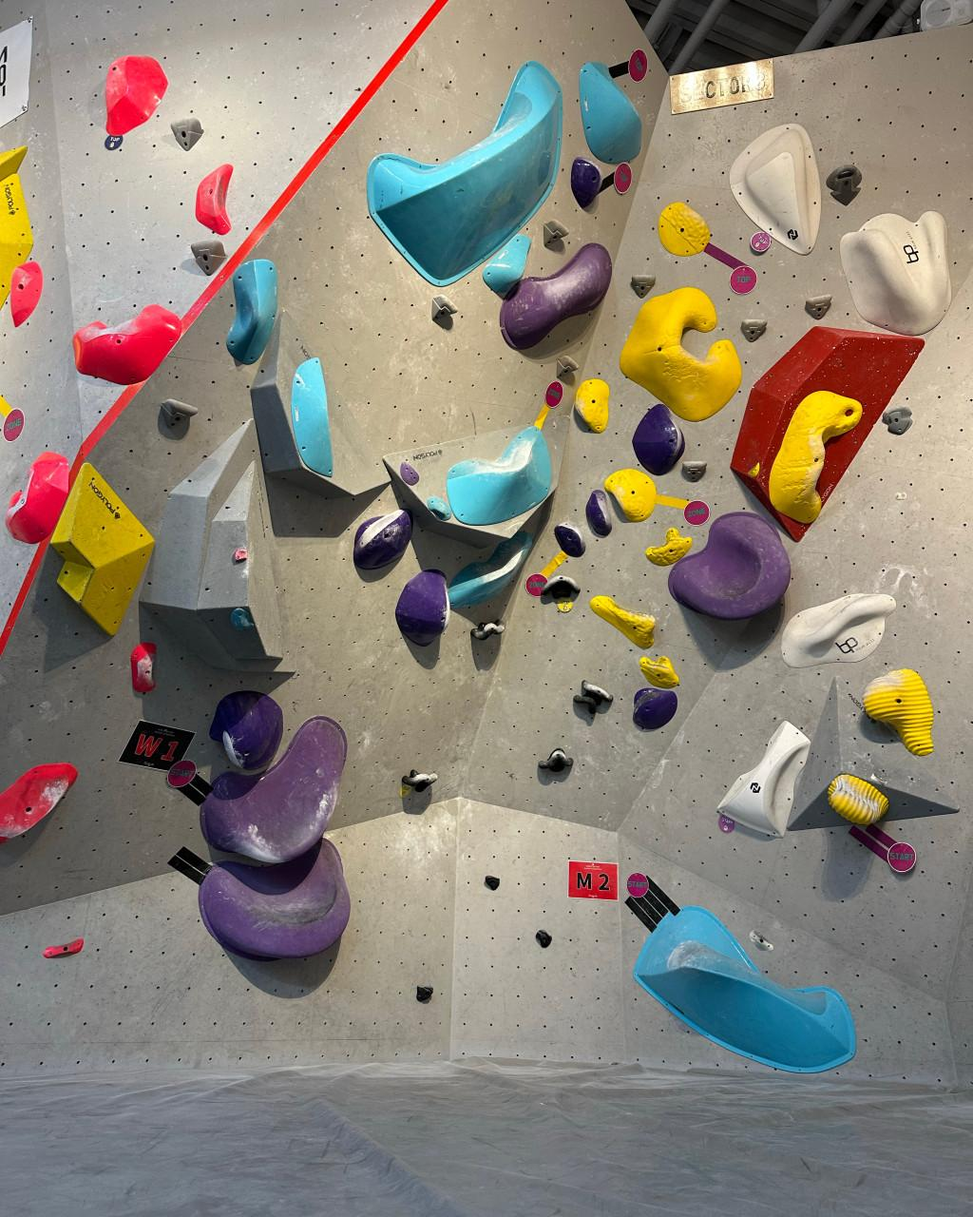hold: (368, 63, 560, 285), (635, 906, 854, 1072), (200, 717, 346, 863), (200, 839, 350, 958), (49, 463, 153, 634), (620, 287, 741, 420), (841, 211, 951, 335), (668, 511, 791, 619), (769, 391, 862, 524), (731, 124, 820, 254), (500, 244, 610, 349), (717, 723, 809, 837), (447, 426, 550, 525), (74, 304, 181, 385), (781, 593, 895, 666), (449, 530, 534, 608), (0, 763, 77, 842), (209, 691, 282, 773), (581, 63, 640, 164), (863, 668, 933, 753), (6, 451, 68, 544), (0, 146, 32, 310), (226, 260, 276, 364), (106, 55, 167, 135), (292, 358, 333, 475), (395, 570, 447, 645), (590, 596, 657, 649), (633, 404, 683, 474), (353, 510, 411, 570), (829, 774, 887, 826), (484, 235, 530, 298), (658, 202, 710, 256), (605, 469, 656, 520), (197, 164, 231, 234), (10, 261, 43, 326), (633, 687, 677, 729), (574, 379, 608, 433), (645, 528, 691, 565), (827, 164, 862, 205), (572, 158, 600, 208), (191, 238, 226, 275), (574, 680, 613, 713), (585, 490, 612, 536), (640, 657, 679, 688), (131, 643, 155, 691), (171, 117, 202, 150), (555, 524, 586, 556), (432, 295, 457, 329), (882, 406, 911, 435), (402, 769, 438, 792), (541, 575, 582, 595), (540, 748, 572, 772), (45, 939, 83, 957), (805, 294, 831, 319), (470, 621, 504, 639), (557, 356, 579, 383), (544, 221, 568, 245), (740, 319, 766, 341), (427, 496, 450, 520), (681, 460, 706, 482), (631, 276, 655, 298), (231, 607, 253, 629), (400, 461, 417, 485), (535, 929, 550, 948), (416, 986, 431, 1001), (233, 548, 246, 564), (485, 877, 499, 889), (748, 463, 759, 477)
volume: (730, 325, 926, 548), (140, 420, 281, 669), (787, 675, 960, 835), (252, 314, 393, 496), (383, 416, 570, 550)
